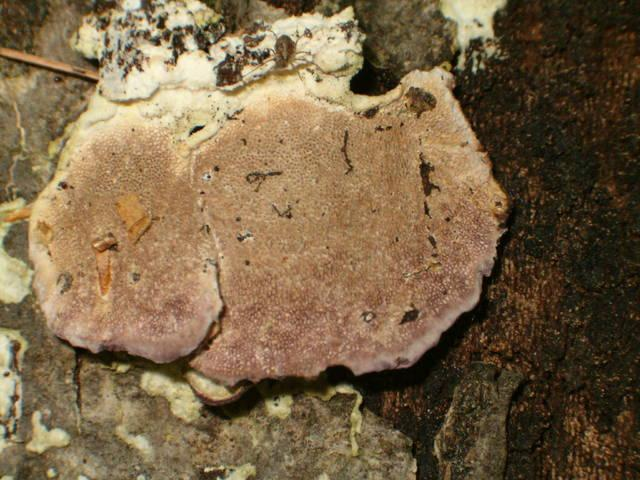poisonous_mushroom: (25, 0, 512, 404)
